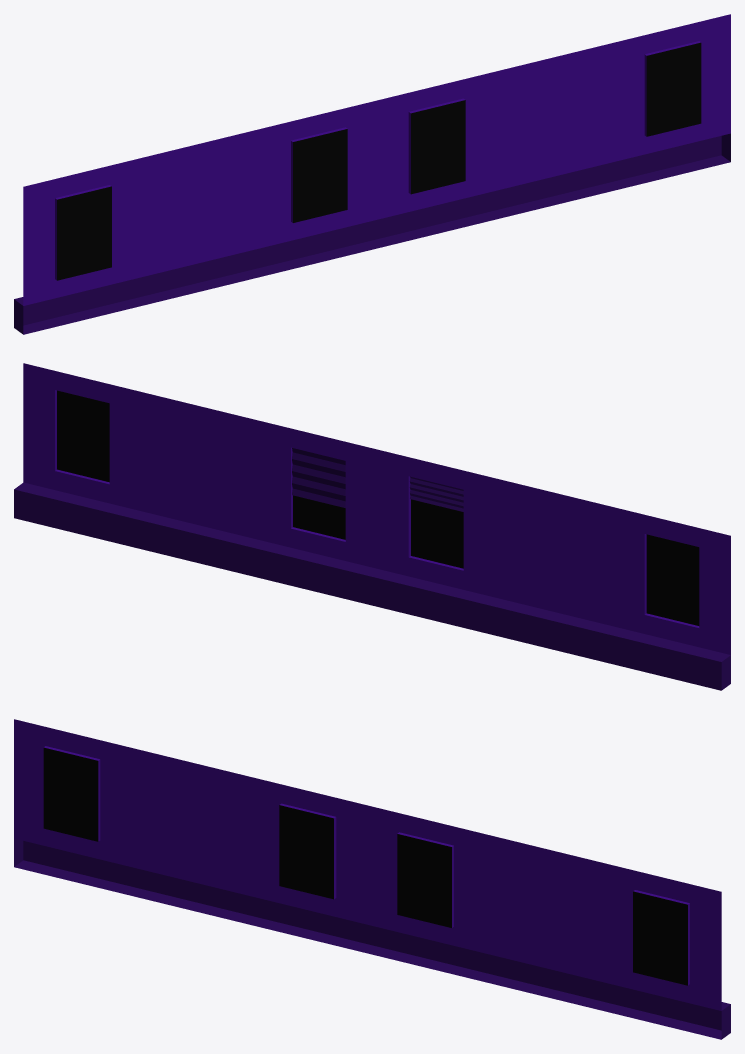
File: RunnablePart1.fbx
3 views of the same model, one above another, from view 1: azimuth 30°, elevation 25°; view 2: azimuth 150°, elevation 25°; view 3: azimuth 330°, elevation 25° (orthographic).
Parts seen in each view (by area): view 1: Plane; view 2: Plane; view 3: Plane.
Part boxes in pixels (bbox=[...]): Plane: bbox=[14, 14, 730, 334]; Plane: bbox=[14, 363, 730, 690]; Plane: bbox=[14, 719, 730, 1039].
Bounding box in the file's own units: 10000 × 2000 × 283.
